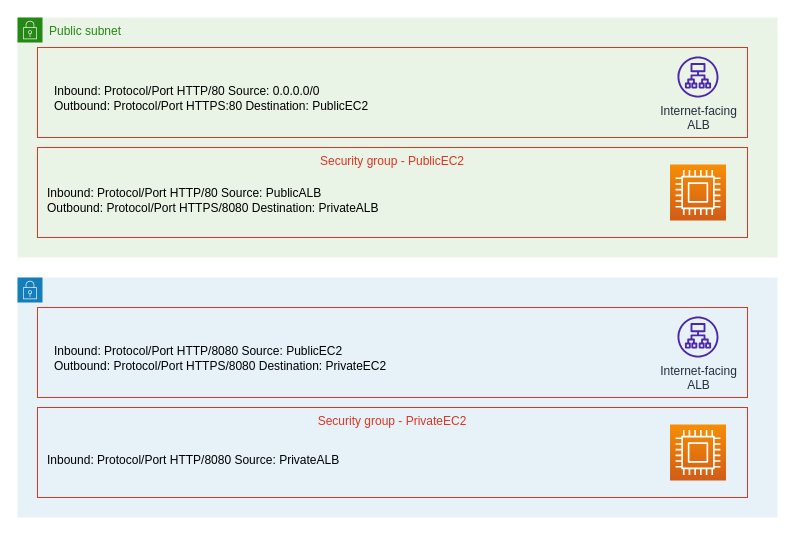
Some shapes in this 795 by 535 pixel diagram are drawn without their labels. The shapes that lost their labels are listed below. From the top down, each one's box as (x1, y1, x2, y2) in pixels, then its label:
(36, 46, 748, 138): Security group - PublicABL
(36, 306, 748, 398): Security group - PrivateABL
(16, 276, 778, 518): Private subnet
